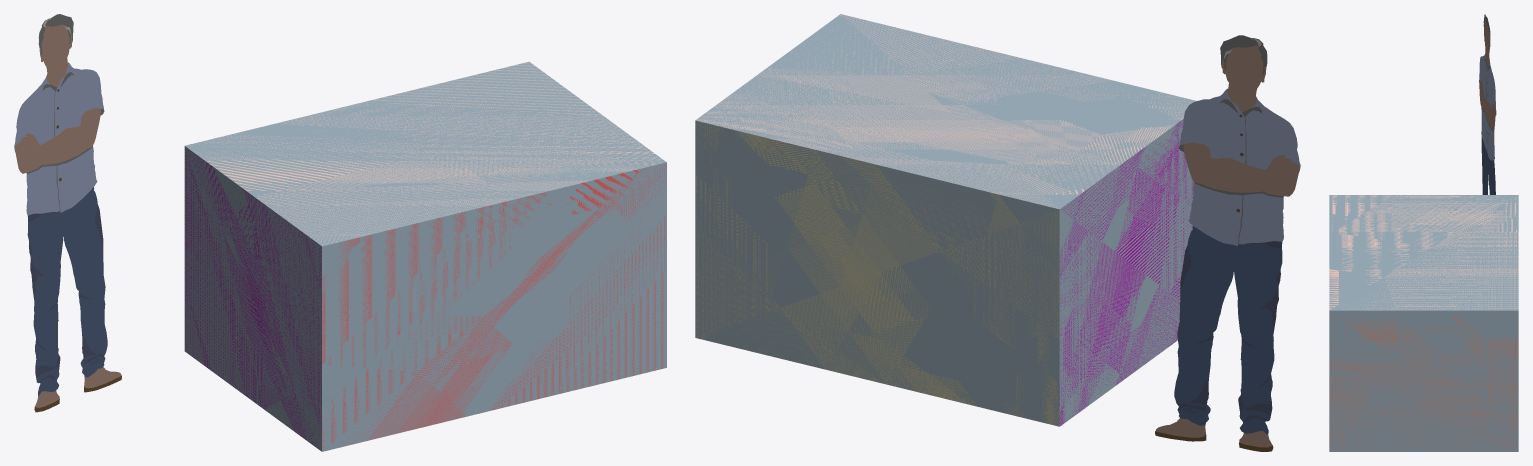
3 renders of one model, left to right at view 1: azimuth 30°, elevation 25°; view 2: azimuth 150°, elevation 25°; view 3: azimuth 270°, elevation 25°, orthographic. The views are drawn at different scales.
Visible parts, largest first — view 1: Mesh9 Model, Mesh1 Niraj1 Model; view 2: Mesh9 Model, Mesh1 Niraj1 Model; view 3: Mesh9 Model, Mesh1 Niraj1 Model.
Boxes of the visible parts, x1,y1,x2,y2 form: Mesh9 Model: [184, 61, 666, 451]; Mesh1 Niraj1 Model: [14, 14, 121, 412]; Mesh9 Model: [695, 14, 1196, 426]; Mesh1 Niraj1 Model: [1155, 35, 1300, 451]; Mesh9 Model: [1329, 195, 1518, 451]; Mesh1 Niraj1 Model: [1479, 14, 1496, 194].
Bounding box in the file's own units: 2.6 × 1.79 × 1.14.
